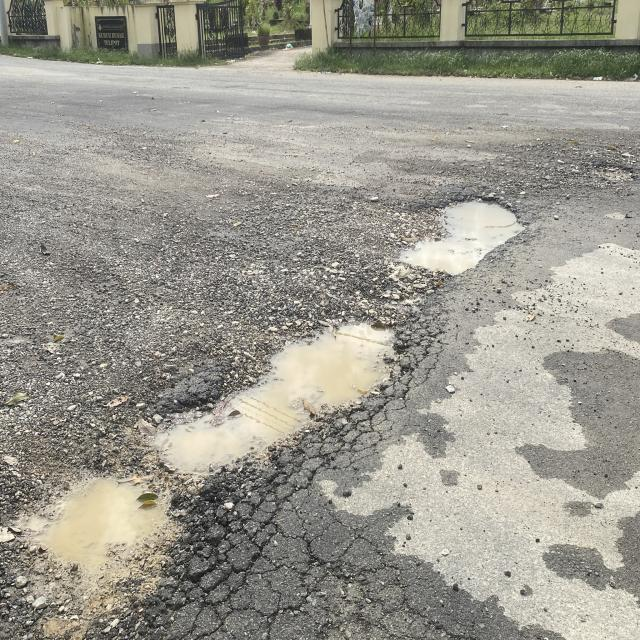pothole: (85, 288, 410, 482), (396, 152, 510, 315)
